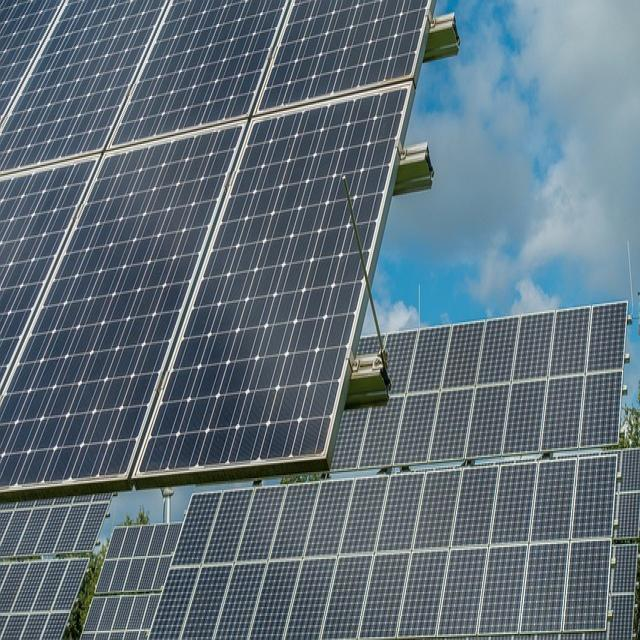clean-solar-panel: (116, 2, 284, 144)
